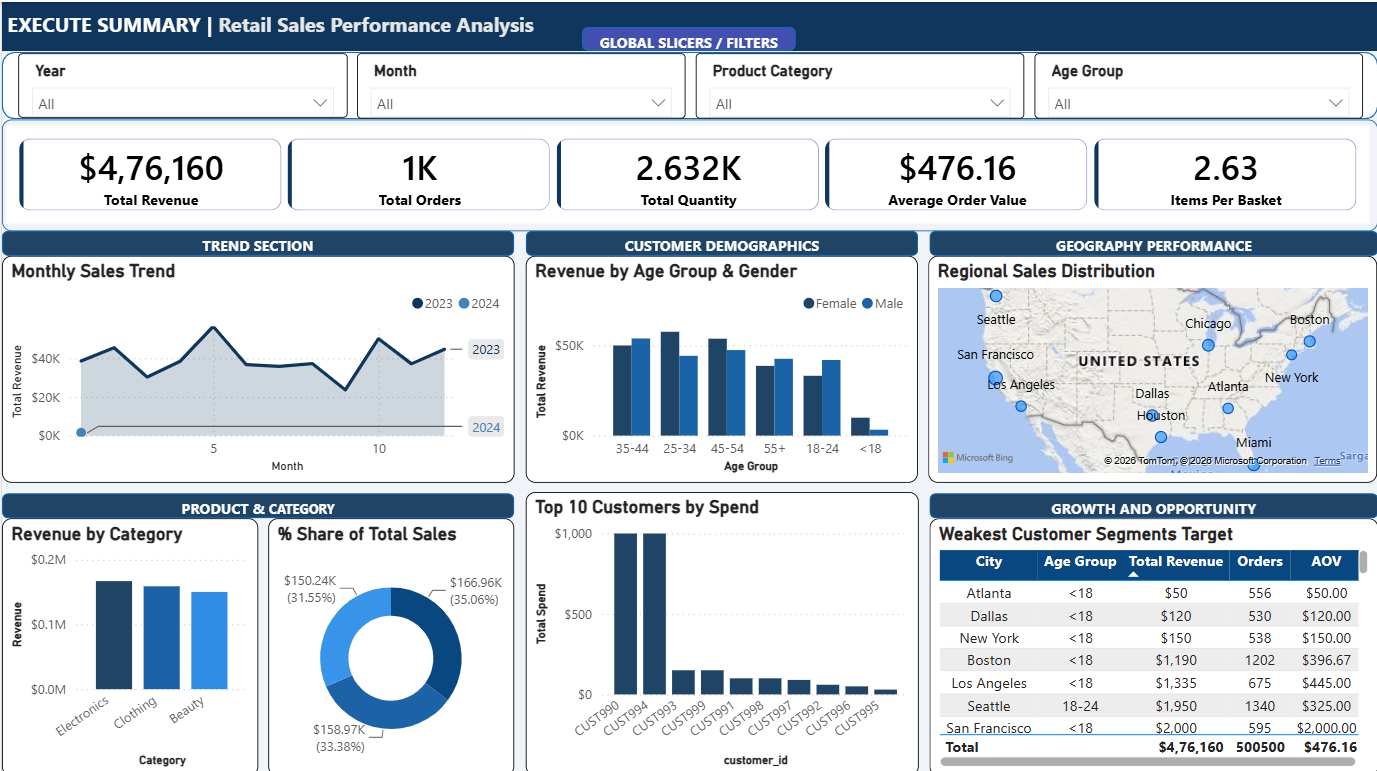

What the dashboard file says about the page in this screenshot:
{"tool":"powerbi","page":{"name":"Page 1","canvas":[1280,720],"ordinal":0},"visuals":[{"type":"textbox","box":[0,0,1280.2,45.3],"z":0},{"type":"shape","box":[539.5,23.3,198.8,22.1],"z":1000},{"type":"textbox","box":[539.5,23.3,198.8,43],"z":2000},{"type":"slicer","title":"Year","fields":{"Values":["public retail_sales.year"]},"box":[15,47.5,306.2,60],"z":2000,"group":"g1"},{"type":"slicer","fields":{"Values":["public retail_sales.month"]},"box":[329.9,47.7,305.8,60.5],"z":3000,"group":"g1"},{"type":"cardVisual","fields":{"Data":["public retail_sales.total_revenue","public retail_sales.total_orders","public retail_sales.total_quantity","public retail_sales.average_order_value","public retail_sales.items_per_basket"]},"box":[0,108.8,1280,103.8],"z":3000},{"type":"slicer","fields":{"Values":["public retail_sales.product_category"]},"box":[645.1,47.7,305.8,60.5],"z":4000,"group":"g1"},{"type":"lineChart","title":"Monthly Sales Trend","fields":{"Y":["public retail_sales.total_revenue"],"Category":["public retail_sales.month"],"Series":["public retail_sales.year"]},"box":[0,236.5,476.7,211.3],"z":4000},{"type":"slicer","fields":{"Values":["public retail_sales.age_group"]},"box":[960.2,47.7,305.8,60.5],"z":5000,"group":"g1"},{"type":"clusteredColumnChart","title":"Revenue by Age Group & Gender","fields":{"Category":["public retail_sales.age_group"],"Y":["Sum(public retail_sales.total_amount)"],"Series":["public retail_sales.gender"]},"box":[487.5,236.5,365,211.3],"z":5000},{"type":"clusteredColumnChart","title":"Revenue by Category","fields":{"Category":["public retail_sales.product_category"],"Y":["Sum(public retail_sales.total_amount)"]},"box":[0,480,238.6,240],"z":6000},{"type":"clusteredColumnChart","title":"Top 10 Customers by Spend","fields":{"Category":["public retail_sales.customer_id"],"Y":["Sum(public retail_sales.total_amount)"]},"box":[487.1,455.7,365.7,264.3],"z":7000},{"type":"shape","box":[0,212.6,476.4,23.4],"z":8000},{"type":"shape","box":[487.6,212.6,365.1,23.4],"z":9000},{"type":"shape","box":[0,456.4,476.4,23.4],"z":10000},{"type":"shape","box":[862.7,212.6,417.4,23.4],"z":11000},{"type":"shape","box":[862.7,456.4,417.4,23.4],"z":12000},{"type":"textbox","box":[0,456.4,476.4,31.2],"z":13000},{"type":"textbox","box":[487.6,212.6,365.1,31.2],"z":14000},{"type":"textbox","box":[0,212.6,476.4,28.9],"z":15000},{"type":"textbox","box":[862.7,212.6,417.4,30.1],"z":16000},{"type":"textbox","box":[862.7,456.4,417.4,28.9],"z":17000},{"type":"map","title":"Regional Sales Distribution","fields":{"Category":["public retail_sales.city"],"Size":["Sum(public retail_sales.total_amount)"]},"box":[862.1,236.5,417.9,211.3],"z":18000},{"type":"donutChart","title":"% Share of Total Sales","fields":{"Category":["public retail_sales.product_category"],"Y":["Sum(public retail_sales.total_amount)"]},"box":[247.1,480,228.6,240],"z":19000},{"type":"tableEx","title":"Weakest Customer Segments Target","fields":{"Values":["public retail_sales.city","public retail_sales.age_group","Sum(public retail_sales.total_amount)","Sum(public retail_sales.order_id)","public retail_sales.average_order_value"]},"box":[862.5,480,417.5,240],"z":20000},{"type":"shape","box":[0,46.2,1280,62.5],"z":21000},{"type":"group","id":"g1","title":"Group 1","box":[15,47.5,1251.2,61.2],"z":22000}]}

Visuals, with their boxes in screenshot pixels (x1, y1, x2, y2), scaled from the page's 1280x720 canvas onto the 1377x771 screenshot:
textbox: bbox(0, 0, 1376, 49)
shape: bbox(580, 25, 794, 49)
textbox: bbox(580, 25, 794, 71)
"Year" slicer: bbox(16, 51, 346, 115)
slicer - public retail_sales.month: bbox(355, 51, 684, 116)
cardVisual - public retail_sales.total_revenue x public retail_sales.total_orders: bbox(0, 117, 1376, 228)
slicer - public retail_sales.product_category: bbox(694, 51, 1023, 116)
"Monthly Sales Trend" lineChart: bbox(0, 253, 513, 480)
slicer - public retail_sales.age_group: bbox(1033, 51, 1362, 116)
"Revenue by Age Group & Gender" clusteredColumnChart: bbox(524, 253, 917, 480)
"Revenue by Category" clusteredColumnChart: bbox(0, 514, 257, 770)
"Top 10 Customers by Spend" clusteredColumnChart: bbox(524, 488, 917, 770)
shape: bbox(0, 228, 513, 253)
shape: bbox(525, 228, 917, 253)
shape: bbox(0, 489, 513, 514)
shape: bbox(928, 228, 1376, 253)
shape: bbox(928, 489, 1376, 514)
textbox: bbox(0, 489, 513, 522)
textbox: bbox(525, 228, 917, 261)
textbox: bbox(0, 228, 513, 259)
textbox: bbox(928, 228, 1376, 260)
textbox: bbox(928, 489, 1376, 520)
"Regional Sales Distribution" map: bbox(927, 253, 1376, 480)
"% Share of Total Sales" donutChart: bbox(266, 514, 512, 770)
"Weakest Customer Segments Target" tableEx: bbox(928, 514, 1376, 770)
shape: bbox(0, 49, 1376, 116)
"Group 1" group: bbox(16, 51, 1362, 116)
